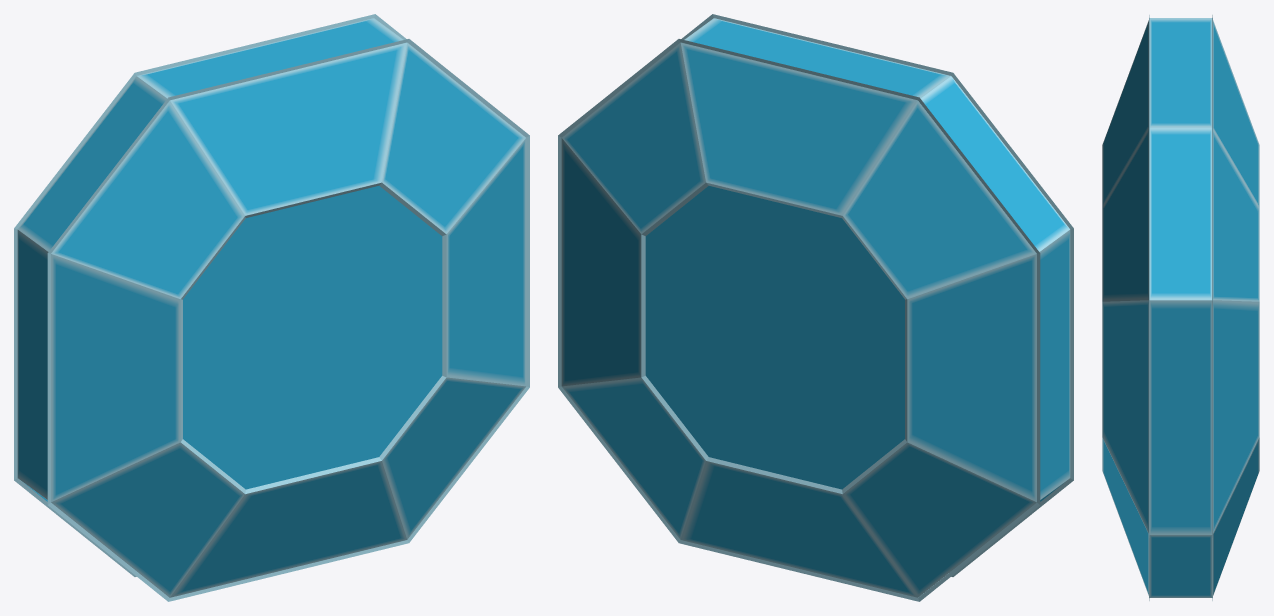
File: Diament2.fbx
The picture shows the model from 3 angles, left to right: view 1: azimuth 30°, elevation 25°; view 2: azimuth 150°, elevation 25°; view 3: azimuth 270°, elevation 25°; orthographic projection. The views are drawn at different scales.
Visible parts, largest first — view 1: Cylinder; view 2: Cylinder; view 3: Cylinder.
Part boxes in pixels (bbox=[...]): Cylinder: bbox=[14, 14, 529, 601]; Cylinder: bbox=[558, 14, 1073, 601]; Cylinder: bbox=[1102, 15, 1259, 600].
Bounding box in the file's own units: 250 × 250 × 74.7.
